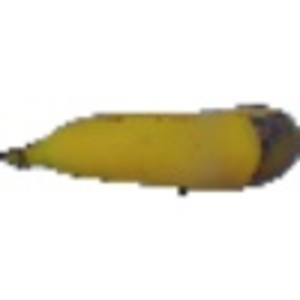banana: (1, 95, 297, 192)
